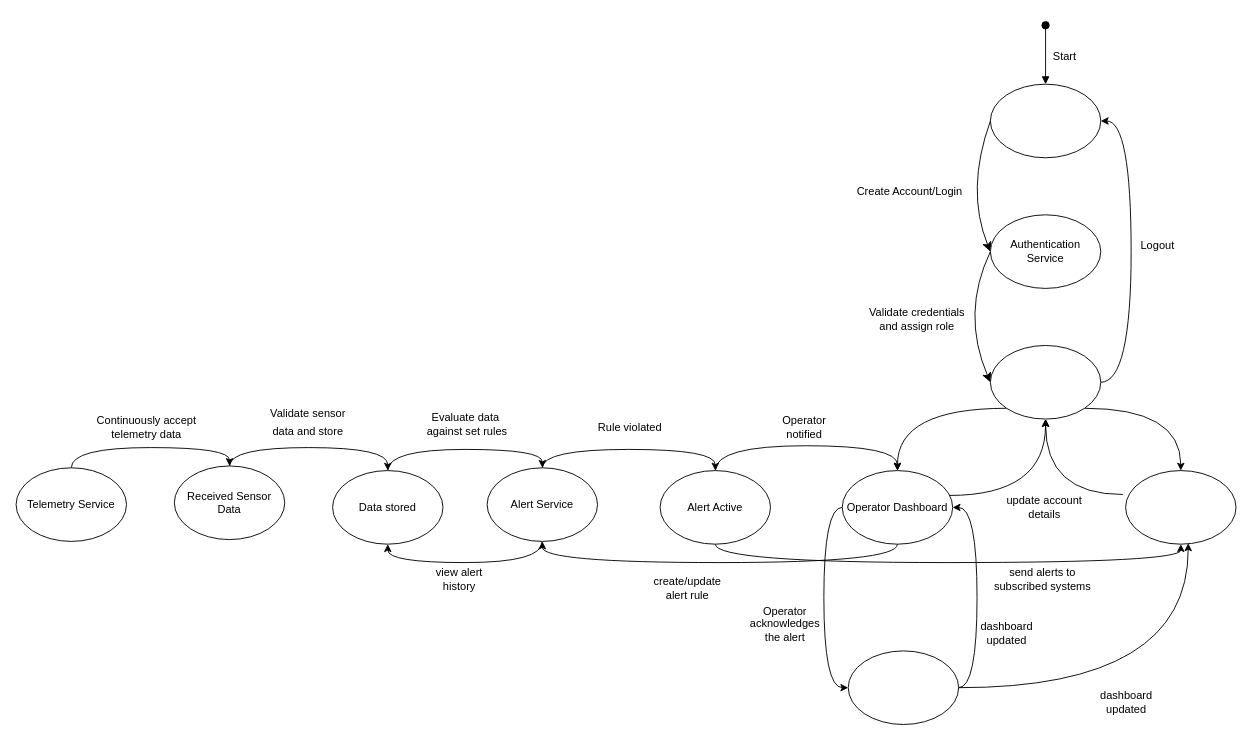
This 1252x741 diagram has some shape labels left out. Here are the shapes that lost their labels. From the top down, the centre of each, then its label:
At point (1045, 120): "Landing".
At point (1045, 382): "Account Service".
At point (1180, 507): "General Public Dashboard".
At point (903, 687): "Alert Resolved".
